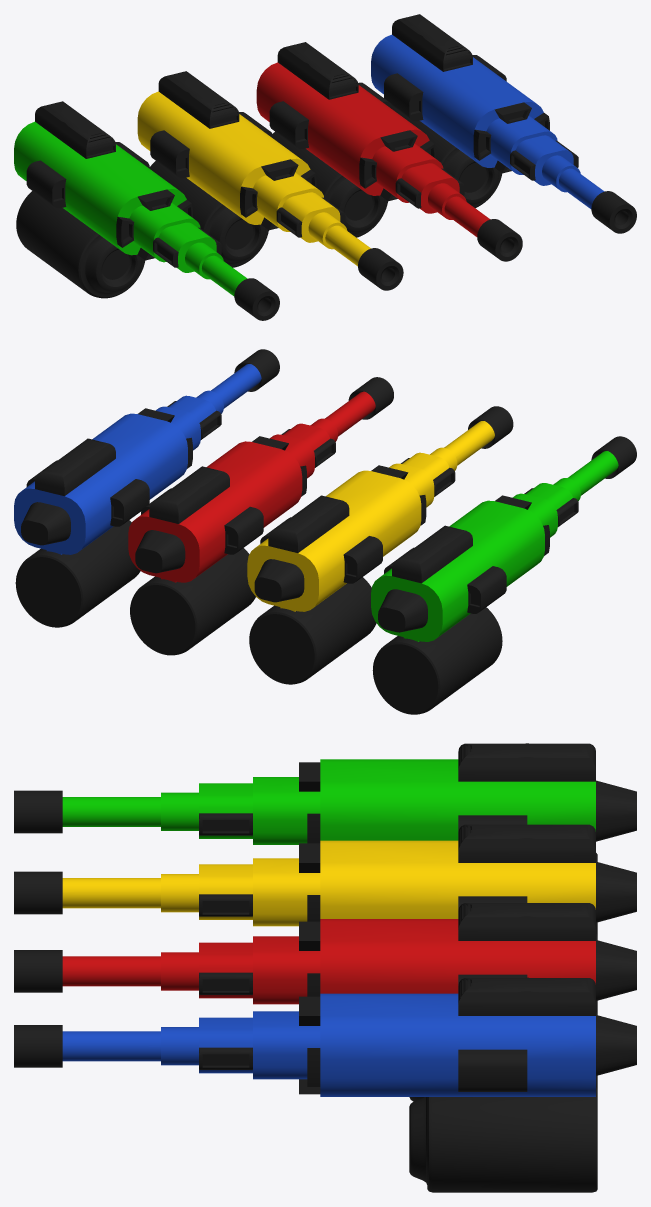
The model's file is FlameThrowerLevel2.fbx.
The picture shows the model from 3 angles, top to bottom: view 1: azimuth 30°, elevation 25°; view 2: azimuth 150°, elevation 25°; view 3: azimuth 270°, elevation 25°; orthographic projection. The views are drawn at different scales.
Parts seen in each view (by area): view 1: FlameThrowerLevel2Green, FlameThrowerLevel2Yellow, FlameThrowerLevel2Red, FlameThrowerLevel2Blue; view 2: FlameThrowerLevel2Green, FlameThrowerLevel2Yellow, FlameThrowerLevel2Red, FlameThrowerLevel2Blue; view 3: FlameThrowerLevel2Blue, FlameThrowerLevel2Green, FlameThrowerLevel2Yellow, FlameThrowerLevel2Red.
Part boxes in pixels (x1,y1,x2,y2): FlameThrowerLevel2Green: (14, 101, 279, 320); FlameThrowerLevel2Yellow: (137, 71, 403, 290); FlameThrowerLevel2Red: (256, 42, 522, 261); FlameThrowerLevel2Blue: (371, 14, 636, 233); FlameThrowerLevel2Green: (371, 436, 636, 714); FlameThrowerLevel2Yellow: (247, 406, 513, 684); FlameThrowerLevel2Red: (128, 377, 393, 655); FlameThrowerLevel2Blue: (14, 349, 279, 627); FlameThrowerLevel2Blue: (14, 977, 636, 1192); FlameThrowerLevel2Green: (14, 743, 636, 935); FlameThrowerLevel2Yellow: (14, 824, 636, 1013); FlameThrowerLevel2Red: (14, 903, 636, 1101).
Size of the model in its own units: 364 by 117 by 321.
